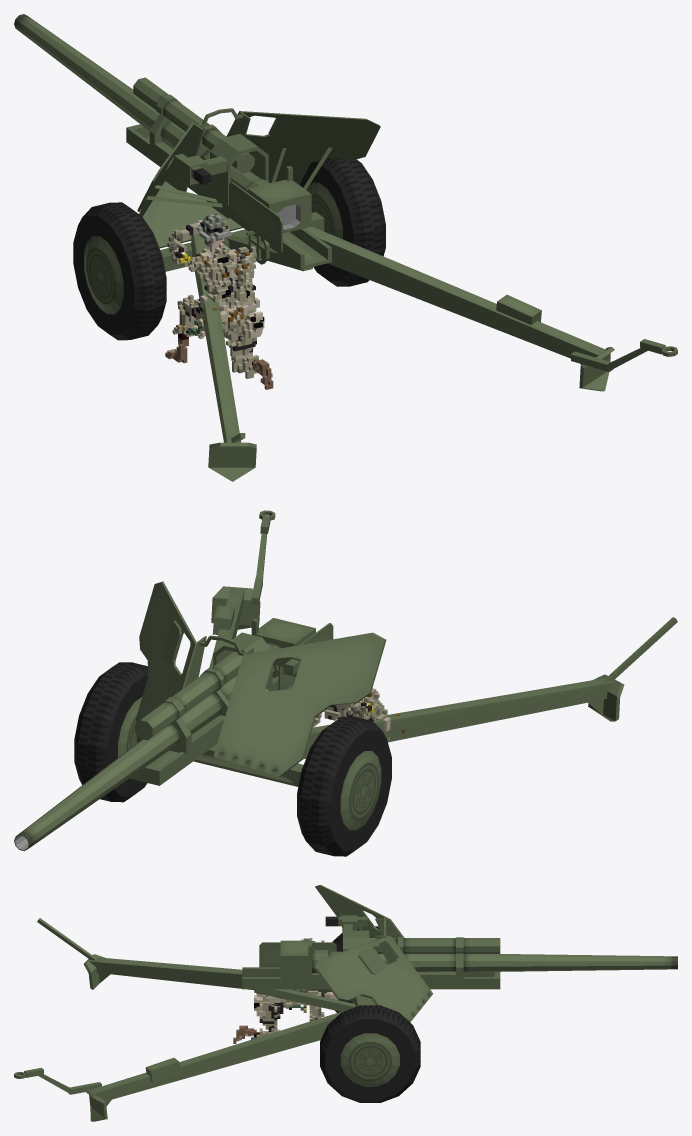
The model's file is at_gun_m5.glb.
3 renders of one model, top to bottom at view 1: azimuth 30°, elevation 25°; view 2: azimuth 150°, elevation 25°; view 3: azimuth 270°, elevation 25°, orthographic. The views are drawn at different scales.
Visible parts, largest first — view 1: 00_turret_m5_gun_base.mesh, weapon_turret_0_m5_gun_cannon.mesh, crew_soldier_SLOT_00_GUNNER; view 2: 00_turret_m5_gun_base.mesh, weapon_turret_0_m5_gun_cannon.mesh, crew_soldier_SLOT_00_GUNNER; view 3: 00_turret_m5_gun_base.mesh, weapon_turret_0_m5_gun_cannon.mesh, crew_soldier_SLOT_00_GUNNER.
Part boxes in pixels (left/top/right/bottom): 00_turret_m5_gun_base.mesh: left=73, top=108, right=677, bottom=481; weapon_turret_0_m5_gun_cannon.mesh: left=14, top=14, right=311, bottom=233; crew_soldier_SLOT_00_GUNNER: left=165, top=213, right=273, bottom=389; 00_turret_m5_gun_base.mesh: left=74, top=510, right=677, bottom=856; weapon_turret_0_m5_gun_cannon.mesh: left=14, top=618, right=315, bottom=850; crew_soldier_SLOT_00_GUNNER: left=312, top=688, right=405, bottom=741; 00_turret_m5_gun_base.mesh: left=14, top=885, right=500, bottom=1121; weapon_turret_0_m5_gun_cannon.mesh: left=280, top=937, right=677, bottom=979; crew_soldier_SLOT_00_GUNNER: left=233, top=938, right=338, bottom=1043.
Bounding box in the file's own units: 3.86 × 1.69 × 7.08.
Materials: 37 (1 with a texture image).
